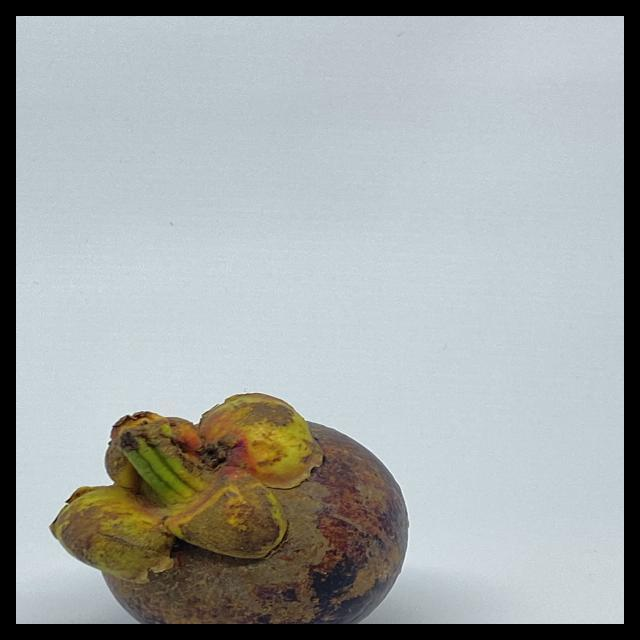mangosteen: (62, 361, 412, 624)
